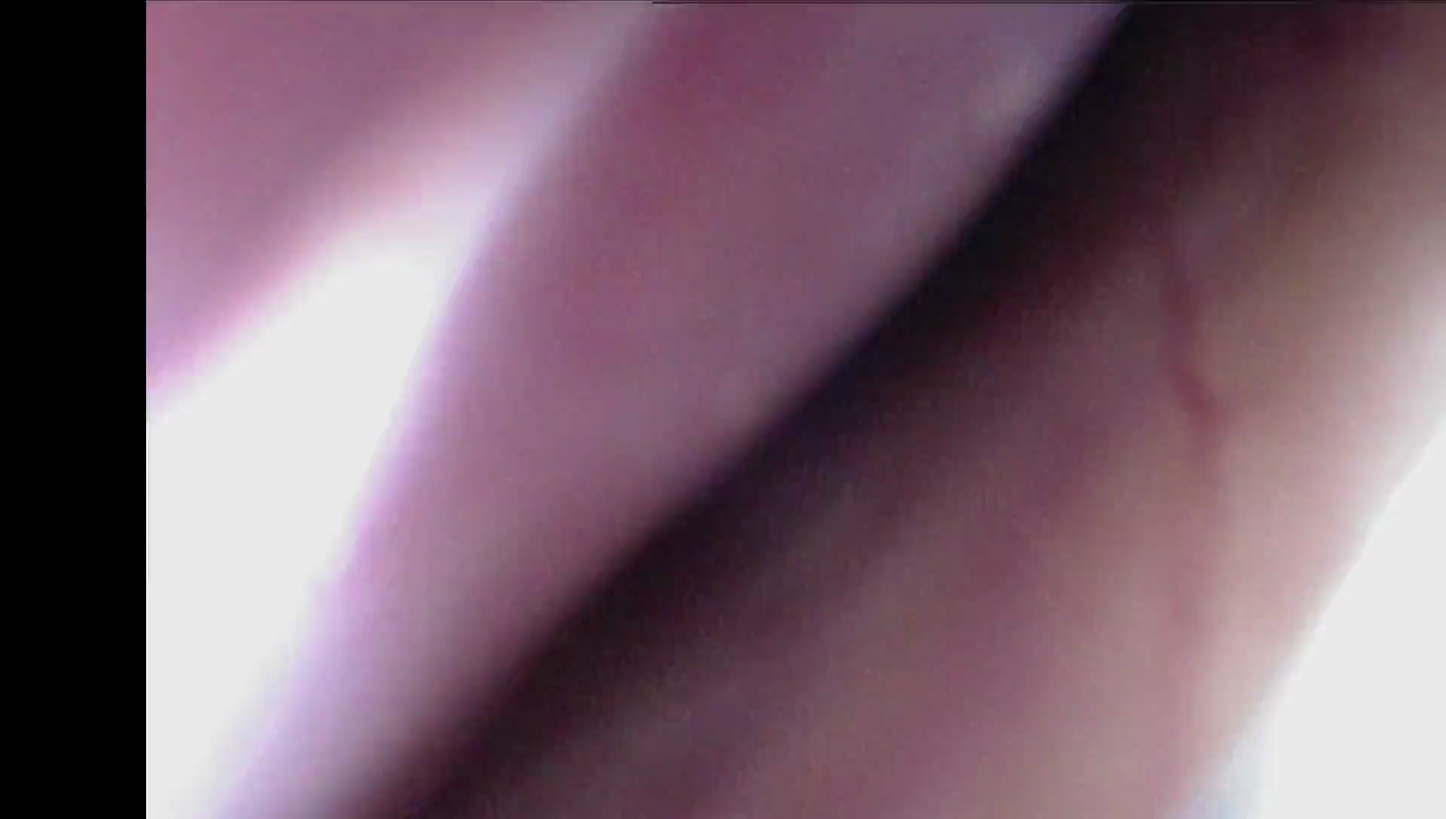close_wall: (158, 16, 632, 808), (1090, 386, 1446, 819)
next: (903, 11, 1264, 343), (681, 264, 941, 581), (489, 520, 722, 784)
